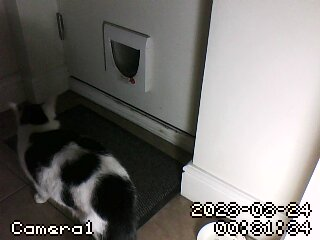bad: (5, 95, 139, 230)
